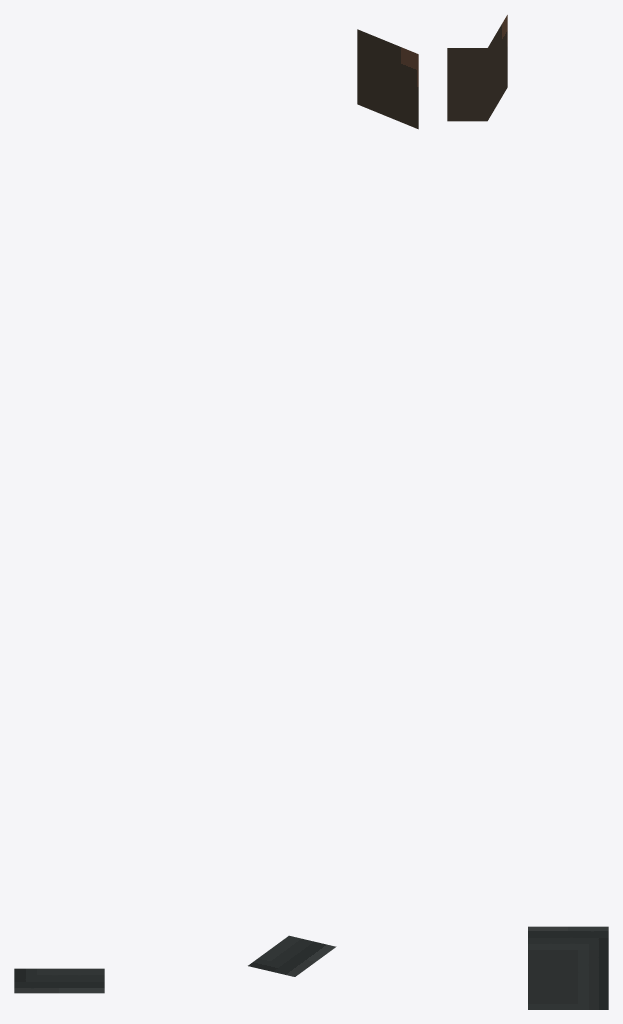
3 renders of one model, left to right at view 1: azimuth 90°, elevation 25°; view 2: azimuth 150°, elevation 25°; view 3: azimuth 270°, elevation 25°, orthographic. The views are drawn at different scales.
Size of the model in its own units: 1 by 6.33 by 1.
Materials: 2 (2 with a texture image).
